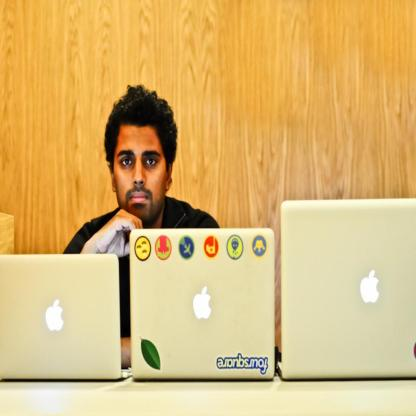board: (276, 199, 416, 382), (128, 225, 275, 381), (0, 256, 134, 379)
